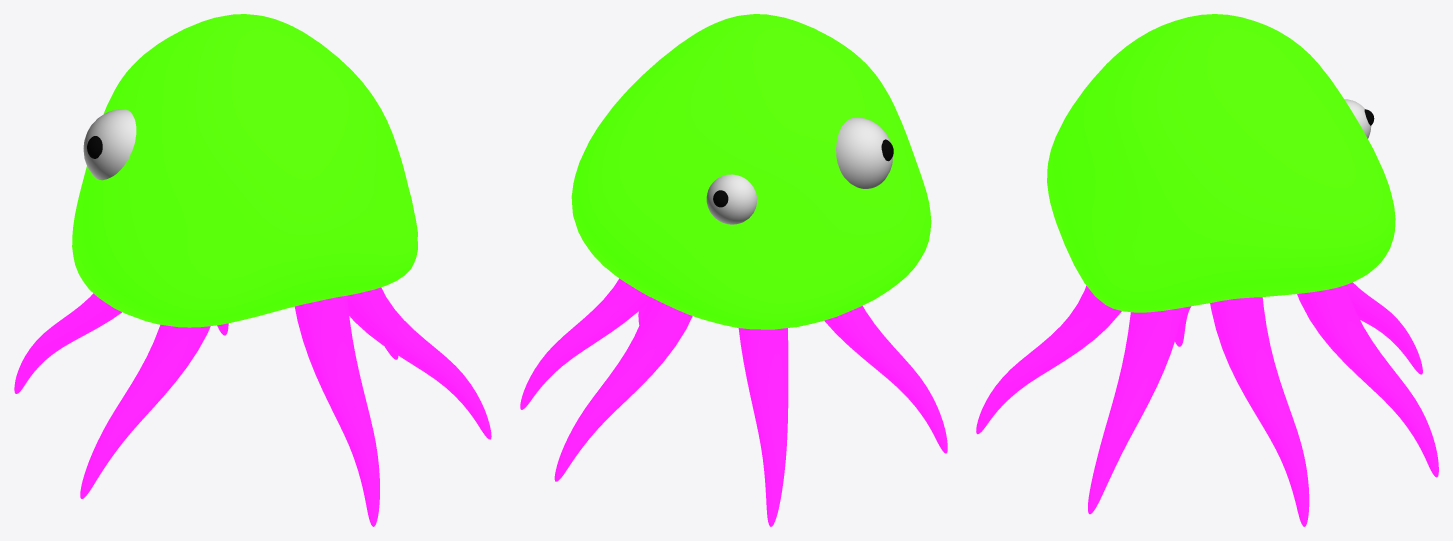
File: JellyFish.fbx
3 views of the same model, side by side, from view 1: azimuth 30°, elevation 25°; view 2: azimuth 150°, elevation 25°; view 3: azimuth 270°, elevation 25° (orthographic). The views are drawn at different scales.
Visible parts, largest first — view 1: Cube; view 2: Cube; view 3: Cube.
Boxes of the visible parts, x1,y1,x2,y2 form: Cube: (14, 14, 491, 526); Cube: (520, 14, 947, 526); Cube: (976, 14, 1438, 526).
Bounding box in the file's own units: 398 × 419 × 429.
